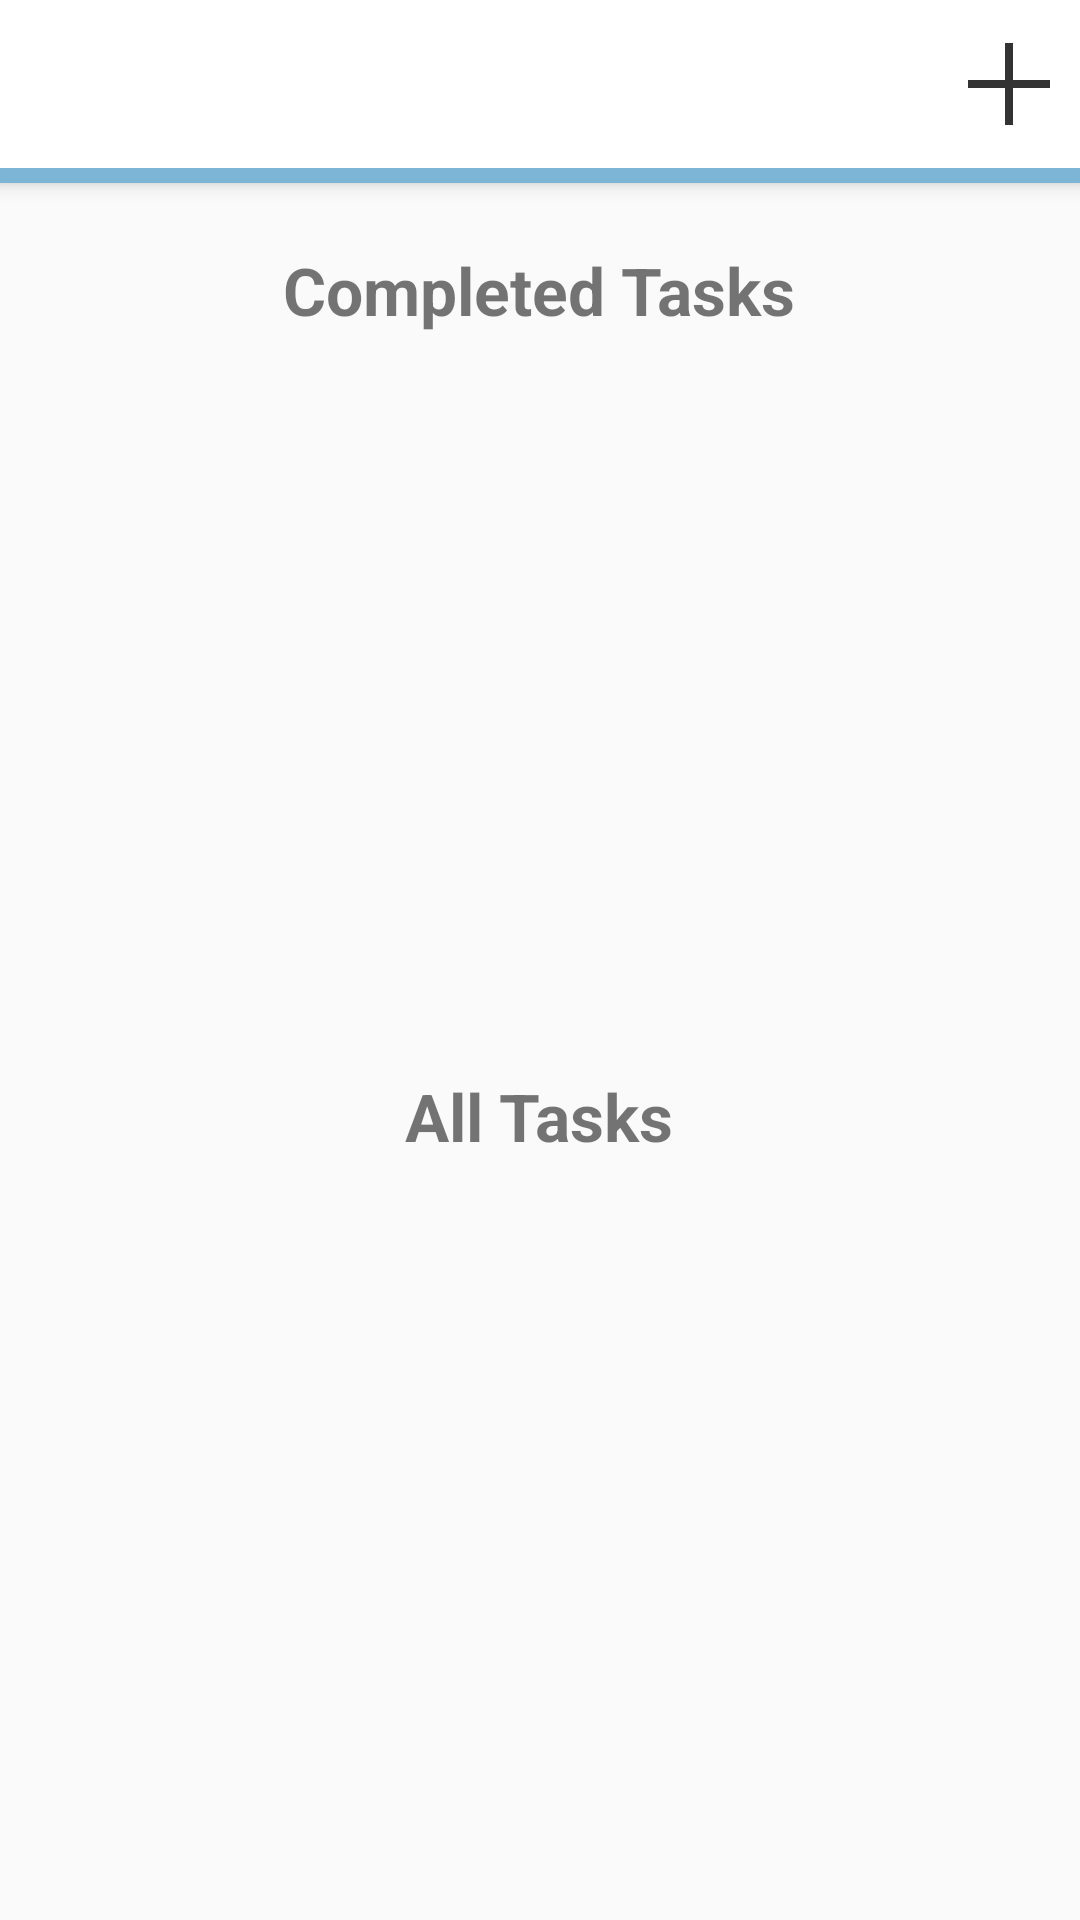

Where icons sit on this 1080*1920 app screen, as (x1, y1, x2, y2):
plus: (968, 43, 1050, 125)
